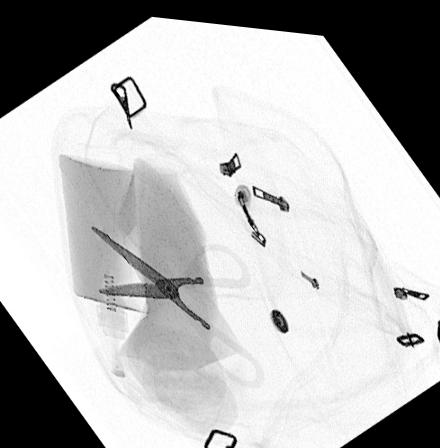Scissors: (87, 221, 268, 383)
